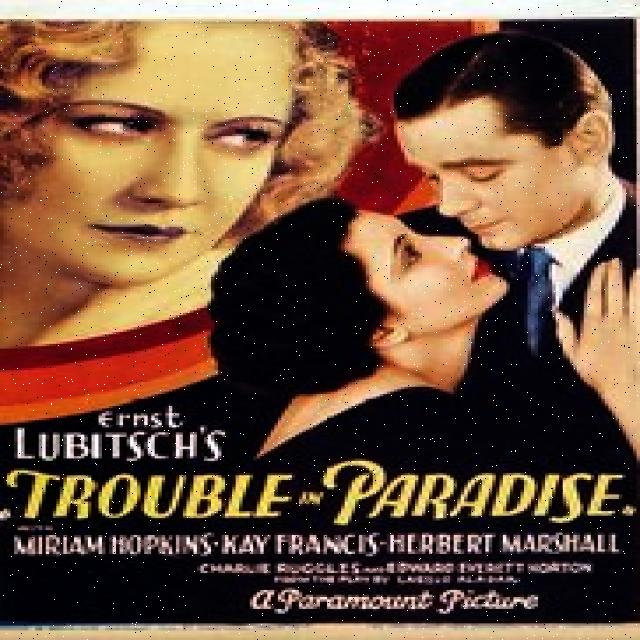movie-judul: (0, 464, 640, 526)
picture: (2, 19, 640, 397)
